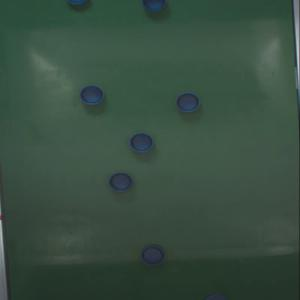dark-blue: (128, 132, 153, 153), (176, 92, 200, 113), (140, 247, 164, 264), (109, 173, 132, 190), (80, 86, 102, 103), (140, 0, 168, 12)
